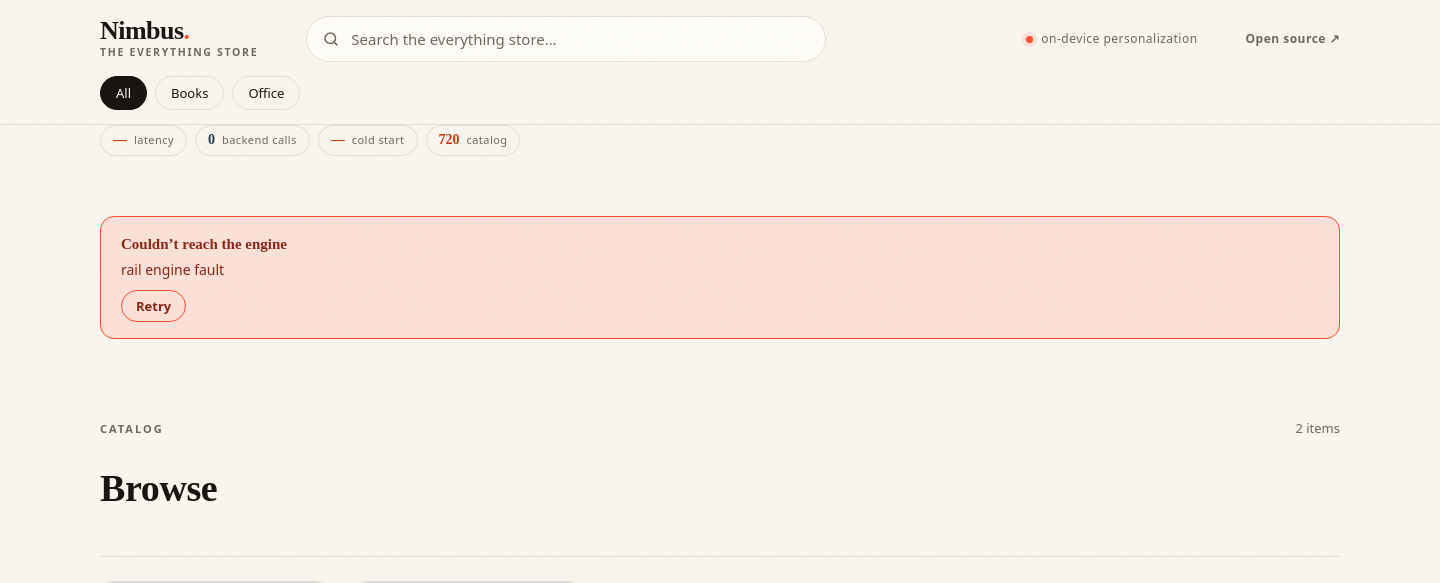
Test: Storefront error handling › recovers from a rail failure when Retry succeeds
Expected: the text "Couldn’t reach the engine" is shown, 121,236 -> 287,252
Click the button "Retry" at (154, 306), box 121,290 -> 186,322
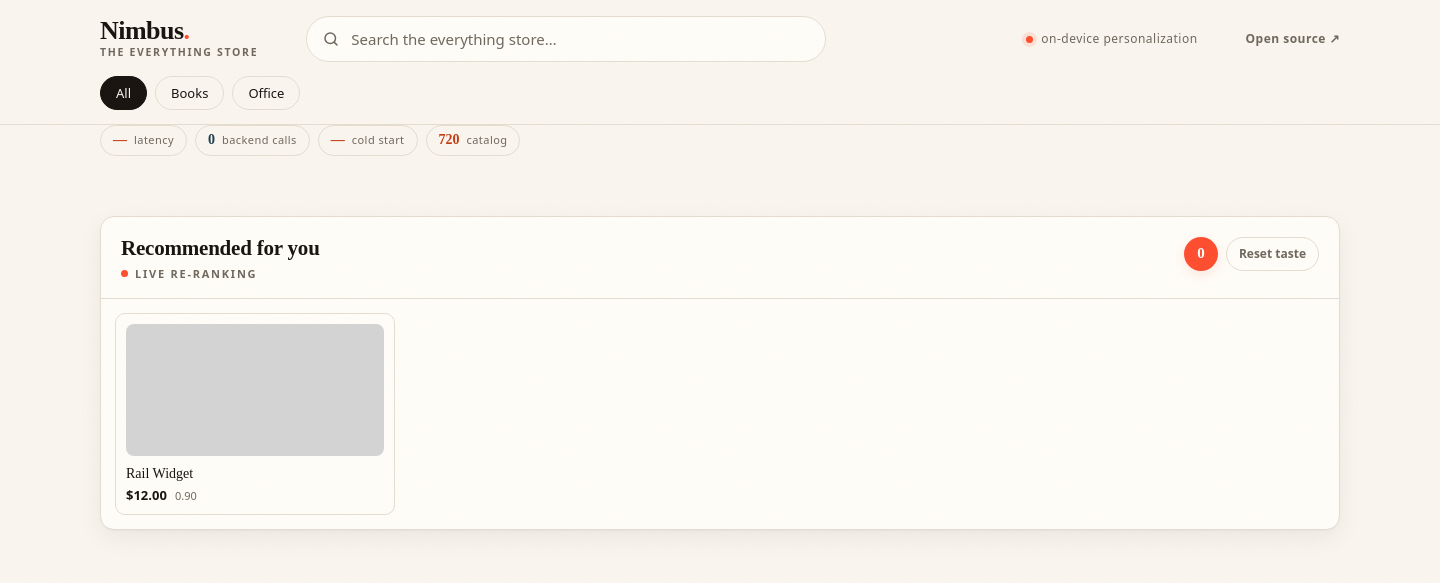
Result: the text "Rail Widget" is shown at 126,466 -> 193,481
Result: the text "Couldn’t reach the engine" is gone
